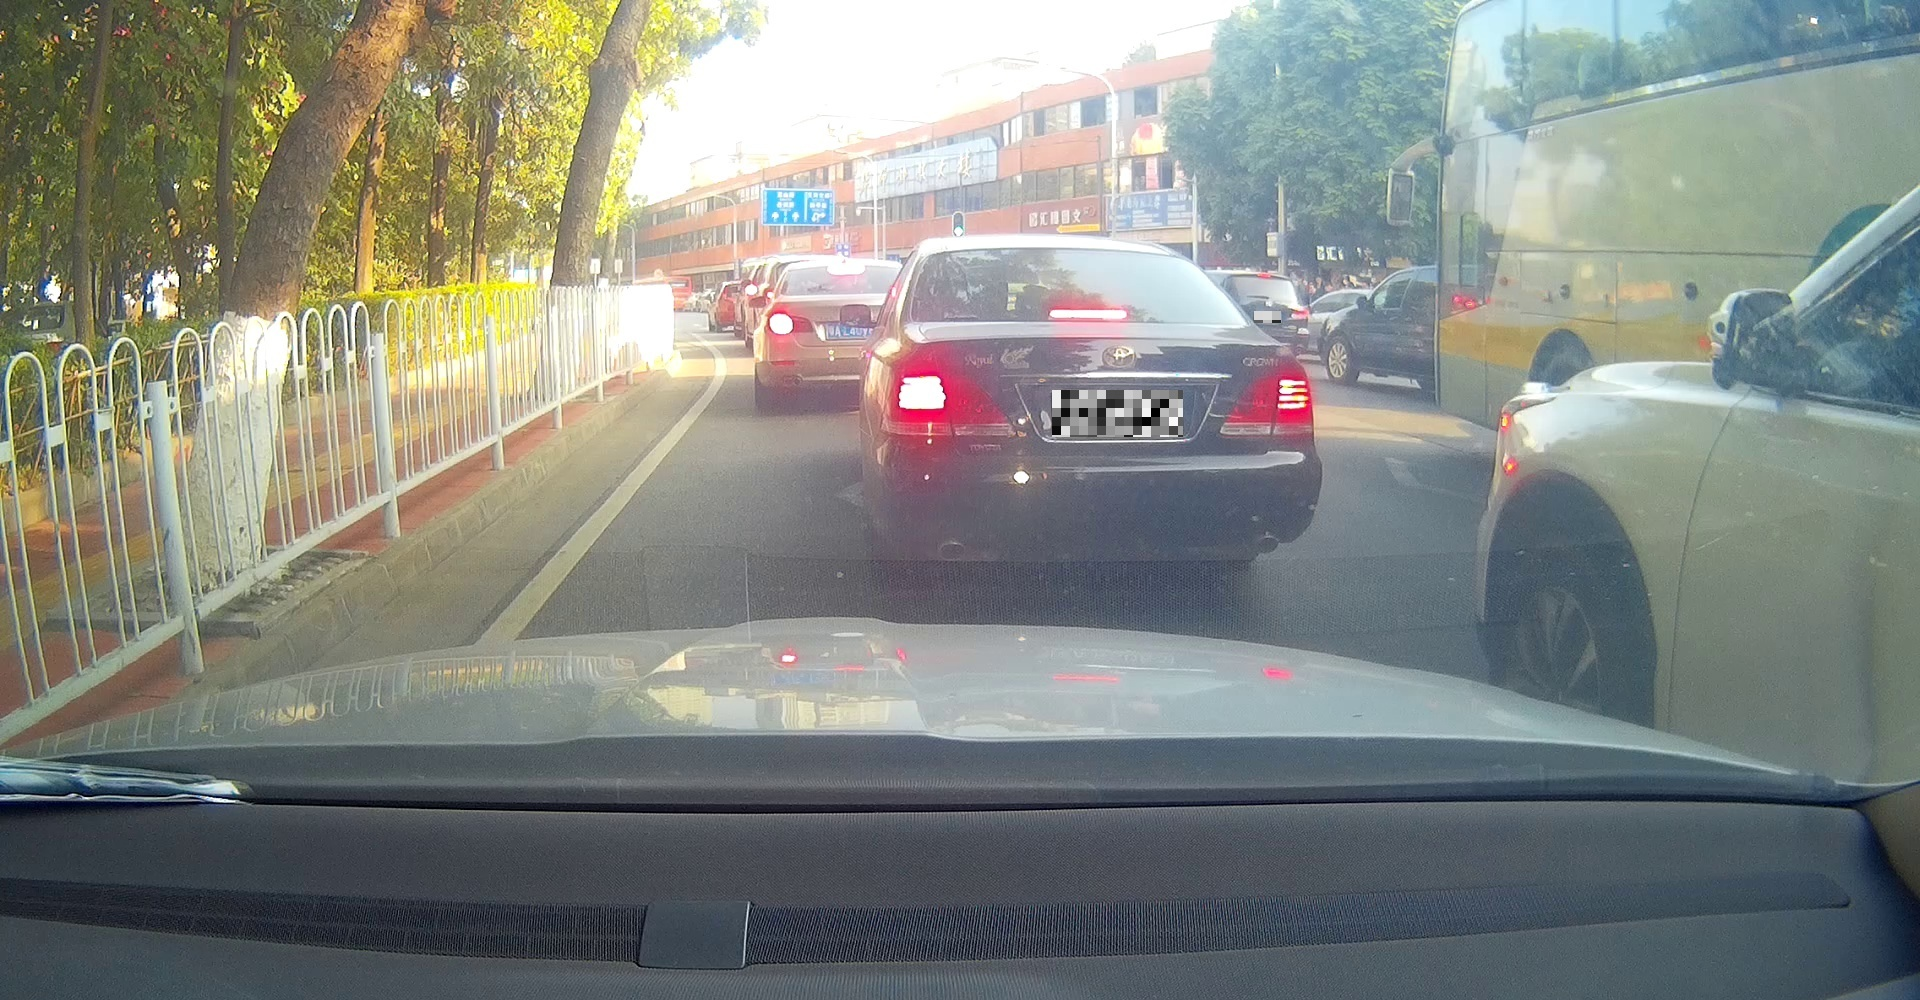L_light: (879, 360, 1018, 437)
R_light: (1218, 369, 1314, 439)
T_light: (1048, 308, 1128, 320)
day-brake: (877, 234, 1323, 589)
plate_1: (1051, 390, 1183, 437)
plate_2: (1255, 311, 1281, 324)
